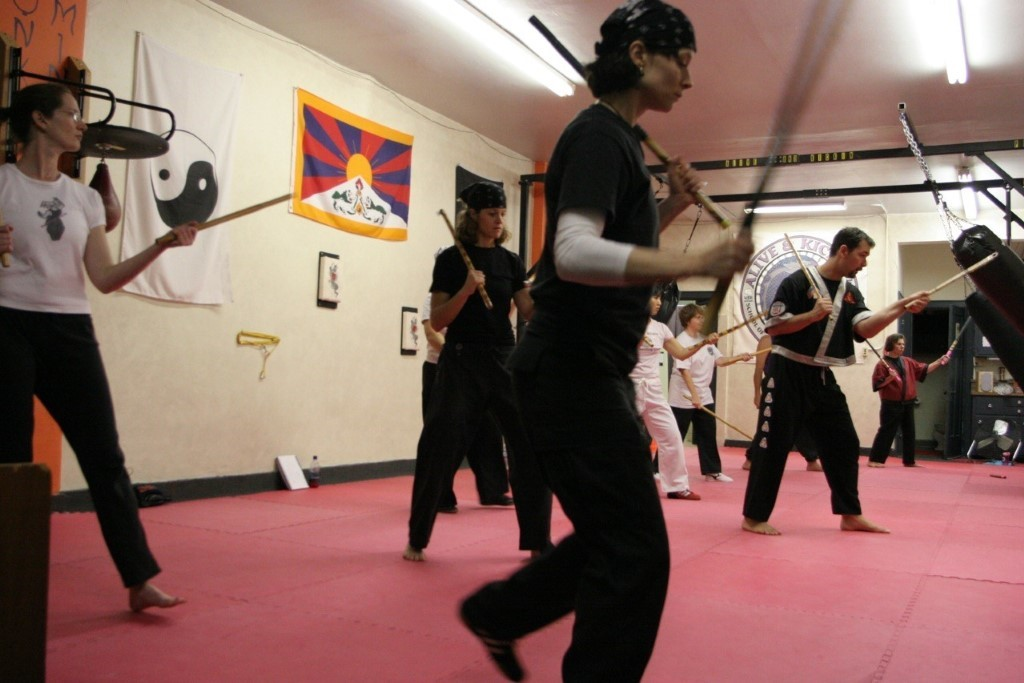baston_e: (531, 26, 727, 219), (162, 192, 288, 244), (440, 212, 492, 305), (784, 235, 832, 315), (909, 257, 985, 307), (686, 394, 748, 438), (718, 310, 766, 337), (865, 340, 899, 378), (944, 315, 969, 363), (718, 347, 770, 366)
baston_v: (716, 214, 733, 232), (696, 322, 713, 337), (483, 301, 496, 313), (985, 250, 997, 263), (526, 12, 539, 24), (152, 235, 164, 247), (285, 190, 295, 202), (902, 301, 911, 310), (826, 313, 836, 321), (681, 392, 689, 400), (437, 207, 446, 213), (782, 231, 790, 237), (749, 434, 755, 441), (895, 376, 900, 383), (940, 360, 945, 366)
